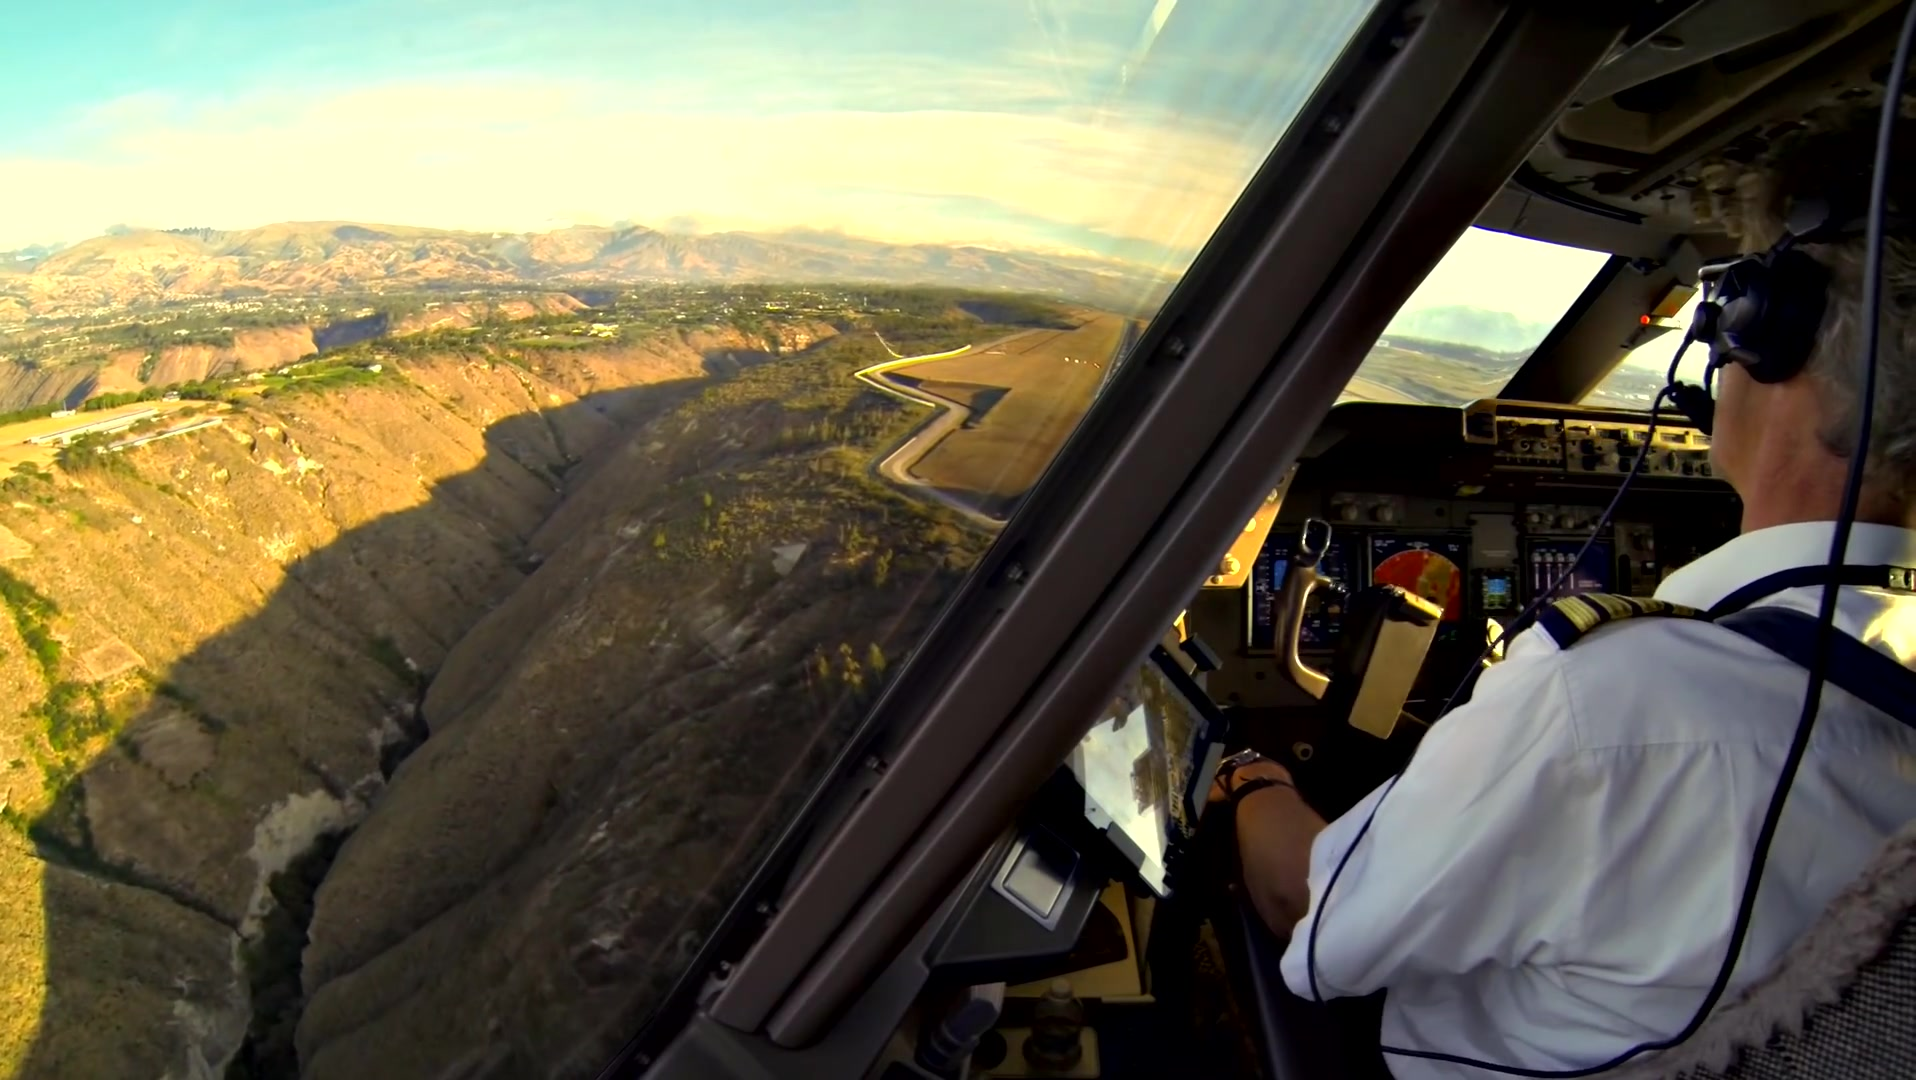runway: (1090, 318, 1147, 406)
